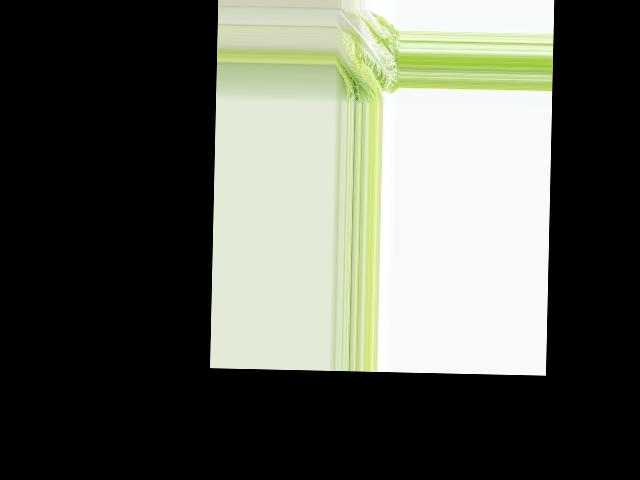lettuce: (335, 7, 399, 105)
